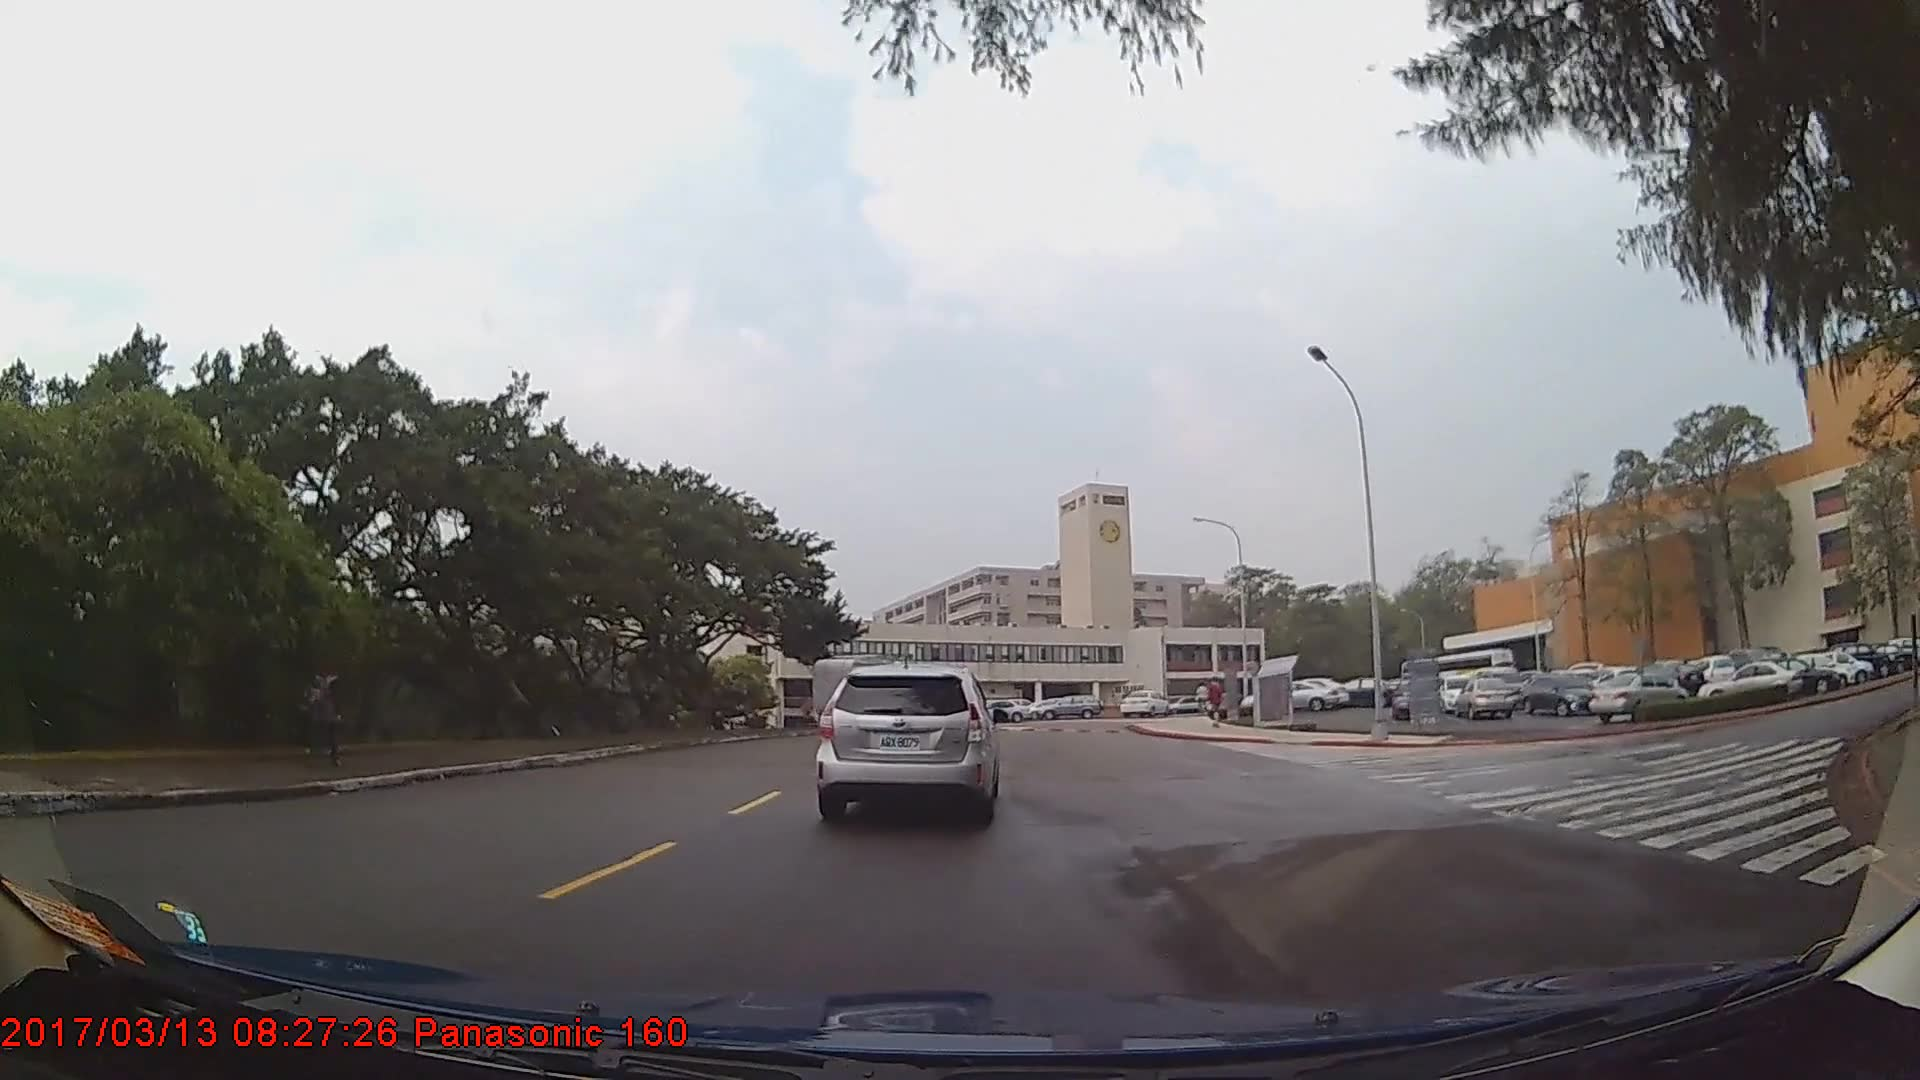pedestrian: (294, 655, 344, 767), (1206, 679, 1226, 731)
vehicle: (817, 662, 996, 822), (1591, 669, 1684, 723), (1696, 658, 1799, 706), (1745, 655, 1841, 698), (1241, 677, 1338, 714), (1523, 670, 1601, 714), (1453, 674, 1516, 720), (1039, 693, 1104, 720), (1118, 688, 1168, 720), (974, 698, 1033, 723)
